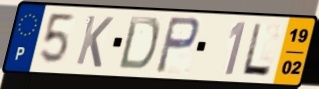1: (224, 20, 248, 78)
5: (37, 13, 76, 68)
D: (116, 14, 162, 72)
K: (73, 13, 116, 70)
L: (240, 21, 273, 79)
P: (153, 15, 201, 76)
